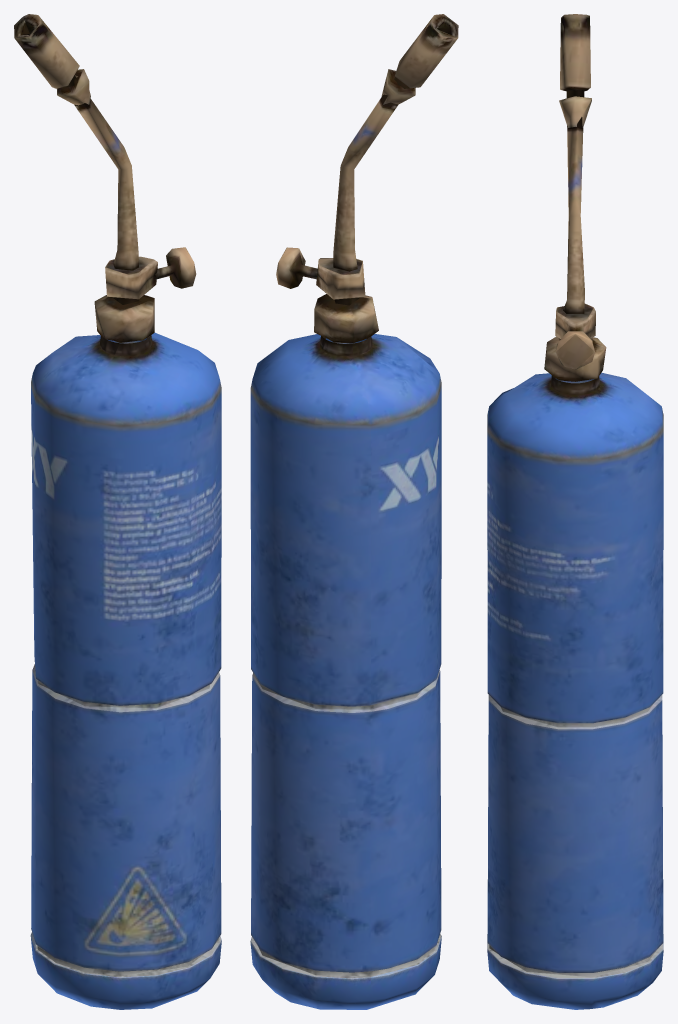
Rendered from propane_torch.glb.
The picture shows the model from 3 angles, left to right: view 1: azimuth 30°, elevation 25°; view 2: azimuth 150°, elevation 25°; view 3: azimuth 270°, elevation 25°; orthographic projection. The views are drawn at different scales.
Visible parts, largest first — view 1: propane_torch; view 2: propane_torch; view 3: propane_torch.
Boxes of the visible parts, x1,y1,x2,y2 form: propane_torch: (14,14,221,1009); propane_torch: (250,14,458,1009); propane_torch: (487,14,663,1009).
Size of the model in its own units: 0.0675 by 0.328 by 0.0568.
1 material, 1 textured.
